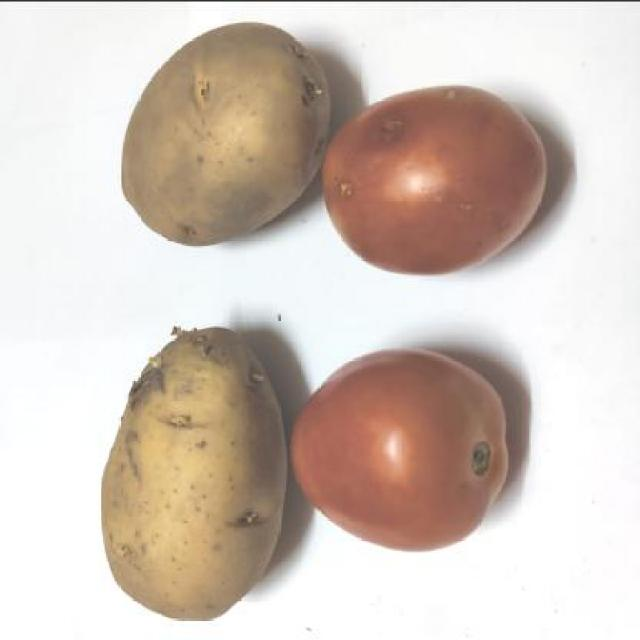potato: (86, 309, 294, 640), (99, 7, 353, 256)
tomato: (312, 50, 568, 288), (271, 324, 531, 558)
